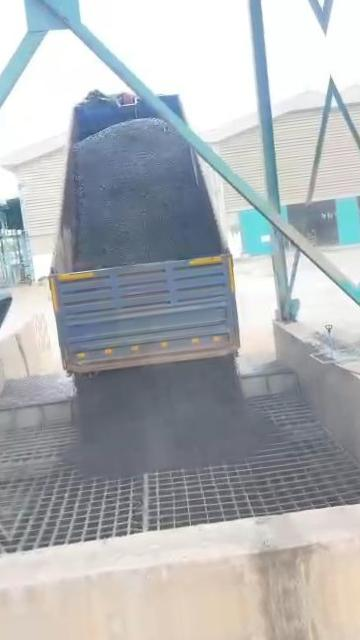gravel: (65, 358, 276, 476), (74, 120, 221, 266), (0, 374, 74, 411)
